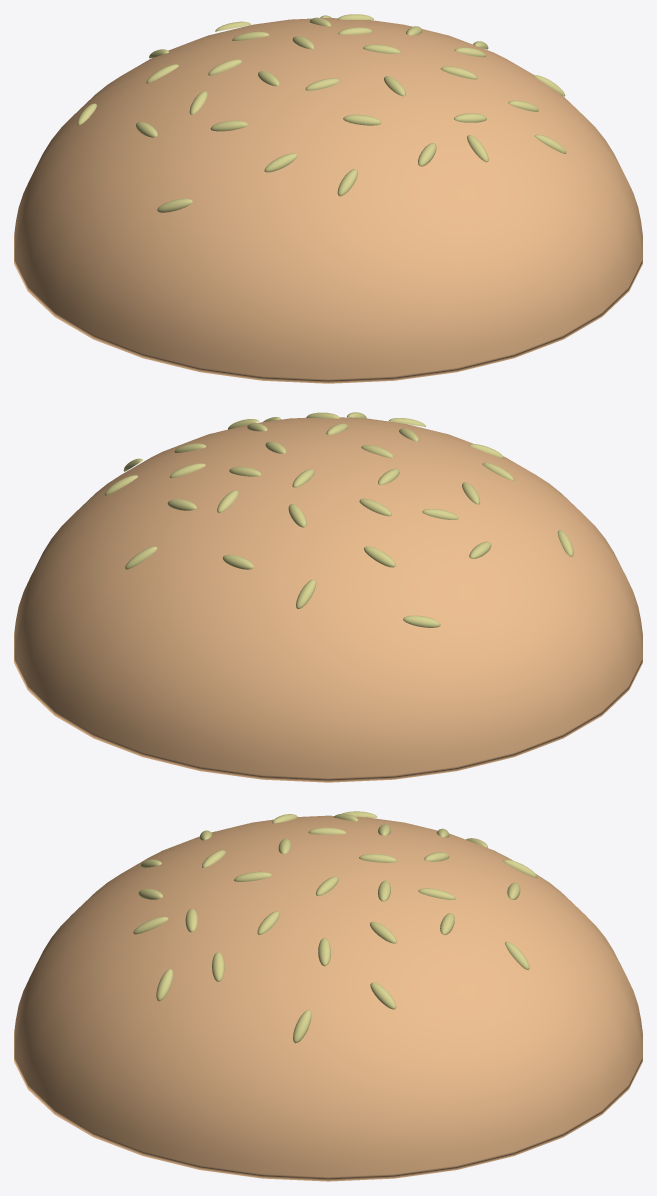
File: Topbunseedy02.fbx
3 renders of one model, top to bottom at view 1: azimuth 30°, elevation 25°; view 2: azimuth 150°, elevation 25°; view 3: azimuth 270°, elevation 25°, orthographic.
Parts seen in each view (by area): view 1: TopBun, Seed33; view 2: TopBun, Seed33; view 3: TopBun, Seed33.
Part boxes in pixels (left/top/right/bottom): TopBun: left=14, top=18, right=642, bottom=383; Seed33: left=77, top=14, right=566, bottom=212; TopBun: left=14, top=417, right=642, bottom=782; Seed33: left=104, top=412, right=573, bottom=627; TopBun: left=14, top=815, right=642, bottom=1181; Seed33: left=133, top=811, right=536, bottom=1043.
Size of the model in its own units: 9.78 by 3.32 by 9.73.
